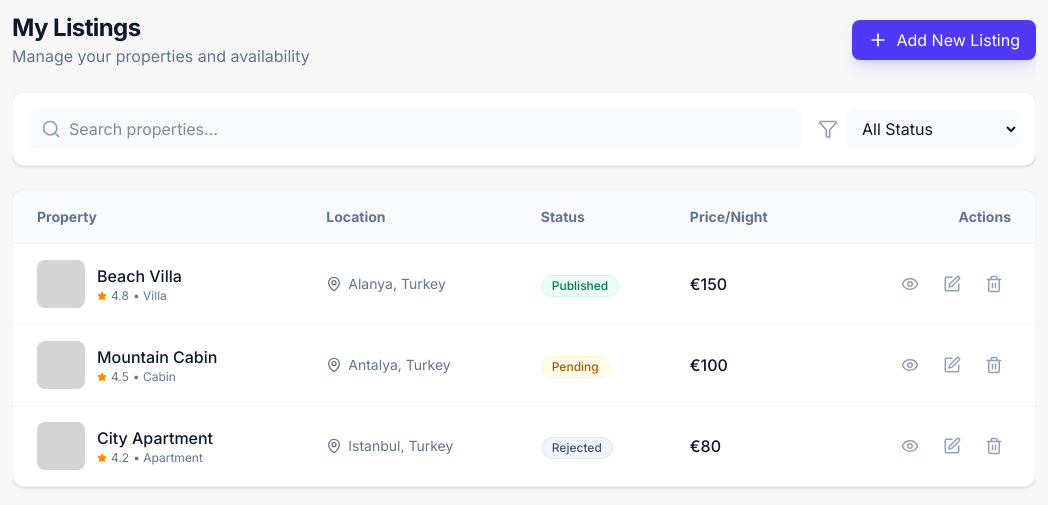
Test: HostPropertiesPage › removes deleted property from the list
Click the button titled "Delete" in the row of "Beach Villa" at (994, 284), box [977,267,1011,301]
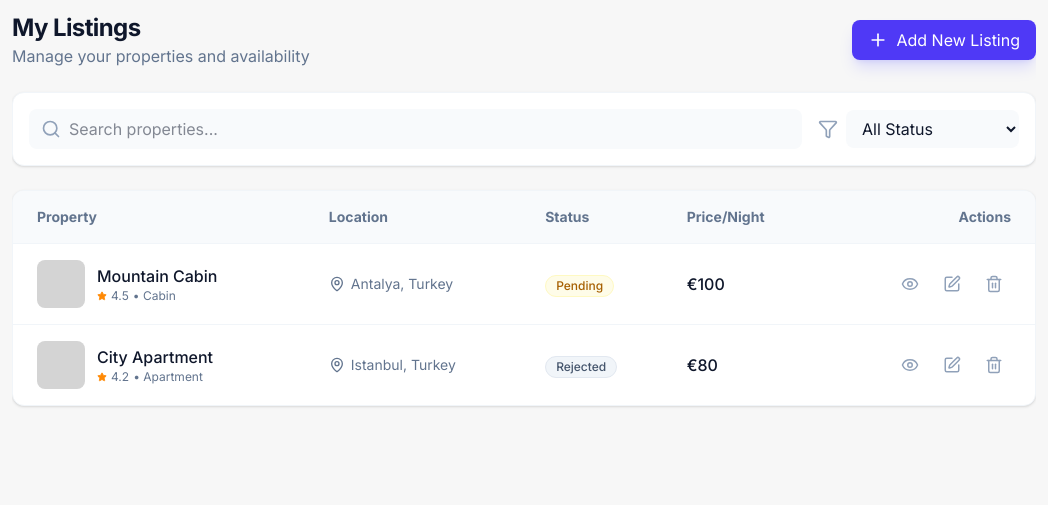
Check: the text "Beach Villa" is gone
